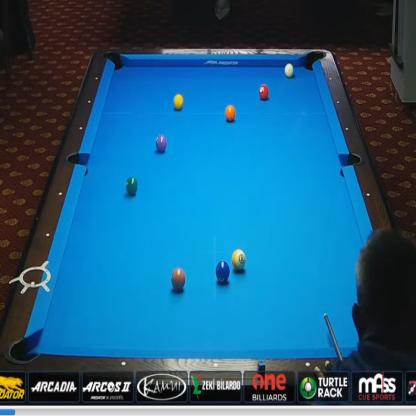Ball: (171, 268, 186, 291), (216, 260, 230, 284), (232, 249, 246, 272), (126, 176, 138, 196), (258, 83, 270, 100), (173, 93, 184, 110), (225, 105, 236, 122), (156, 135, 167, 152), (284, 63, 294, 78)
